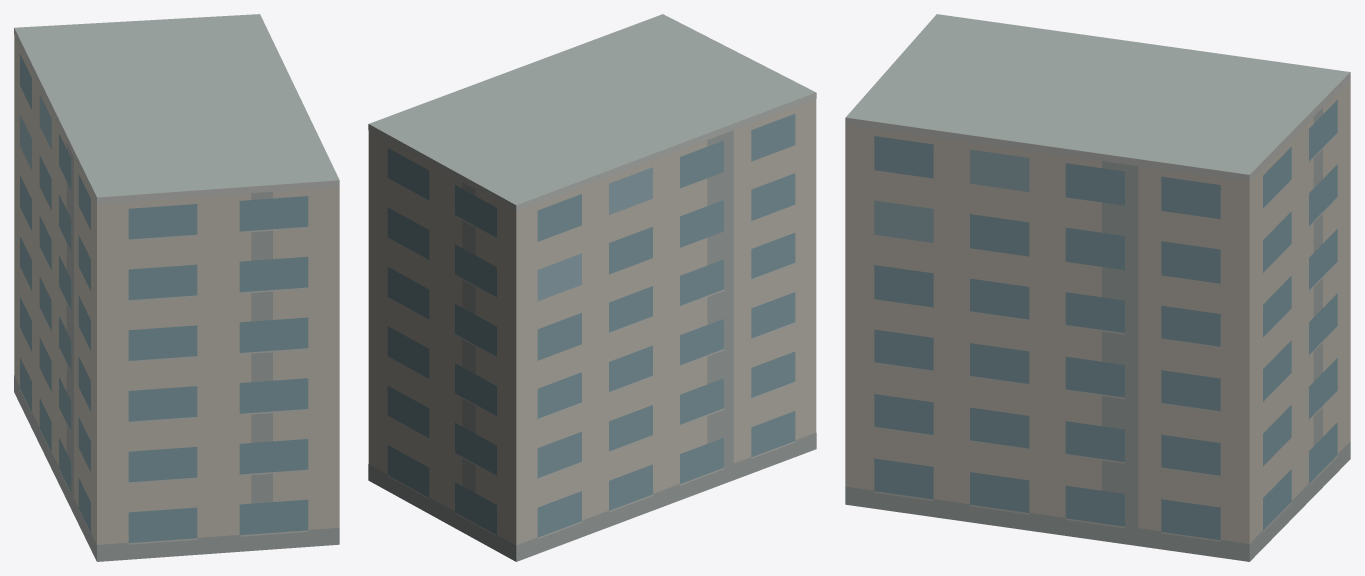
Rendered from survey-upis-32891790.glb.
3 views of the same model, side by side, from view 1: azimuth 30°, elevation 25°; view 2: azimuth 150°, elevation 25°; view 3: azimuth 270°, elevation 25° (orthographic). The views are drawn at different scales.
Visible parts, largest first — view 1: survey-upis-32891790.tmp; view 2: survey-upis-32891790.tmp; view 3: survey-upis-32891790.tmp.
Part boxes in pixels (<box>): survey-upis-32891790.tmp: <box>14,14,339,561</box>; survey-upis-32891790.tmp: <box>368,14,816,561</box>; survey-upis-32891790.tmp: <box>845,14,1350,561</box>.
Size of the model in its own units: 11.86 by 13.3 by 15.74.
